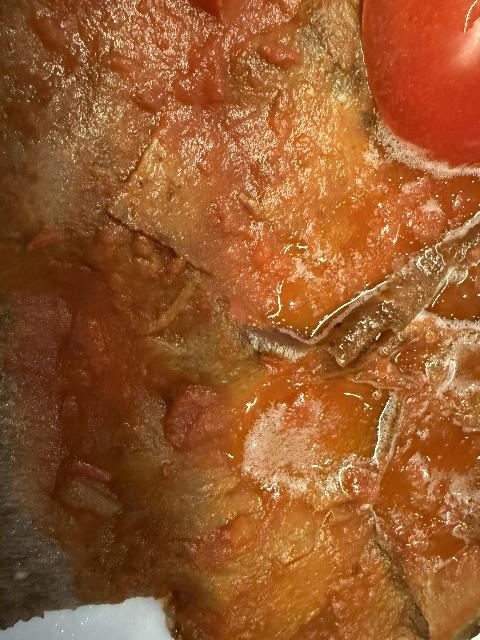Organik: (349, 0, 480, 178), (0, 597, 181, 640), (325, 297, 403, 375)
